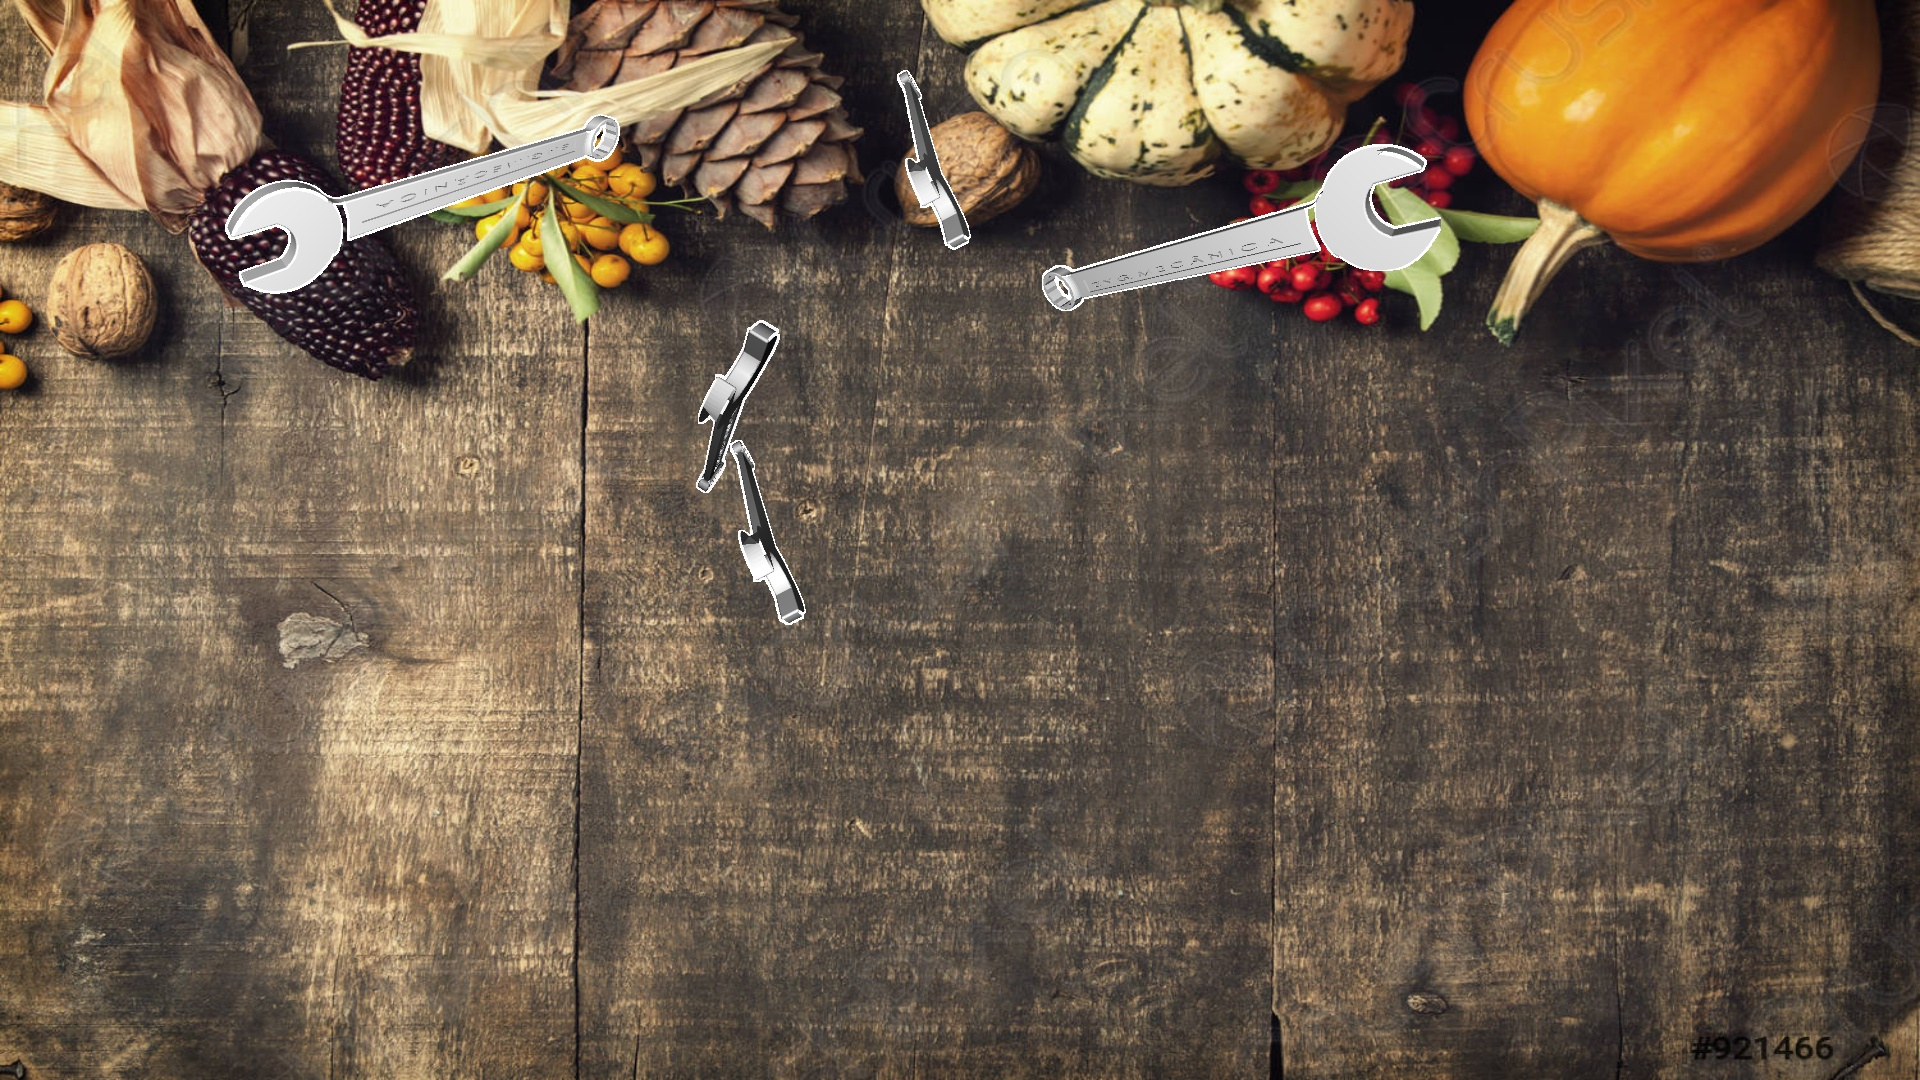Mixed Key: (225, 113, 618, 293), (1042, 144, 1440, 310), (696, 320, 779, 492), (731, 440, 804, 624), (897, 70, 971, 249)
